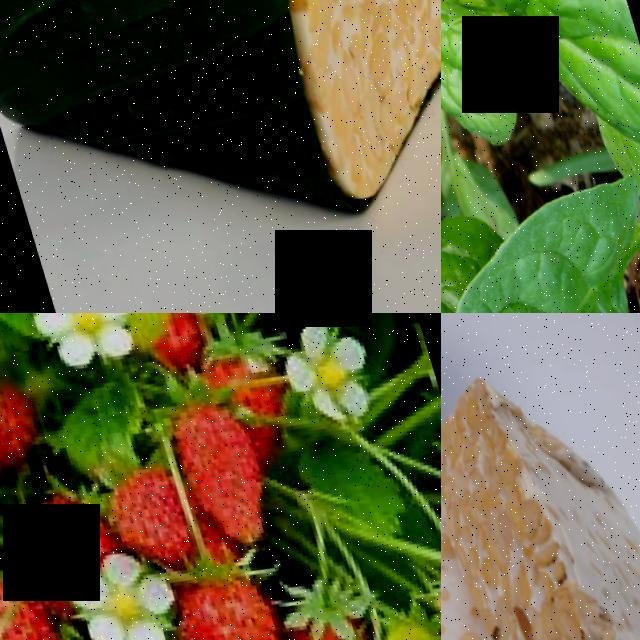spinach: (451, 0, 640, 168), (441, 211, 640, 313)
strawberry: (160, 383, 281, 548), (96, 454, 193, 560), (166, 564, 287, 640), (419, 545, 441, 640)
tempeh: (240, 0, 441, 195)
tofu: (441, 344, 640, 640), (441, 467, 536, 640)
